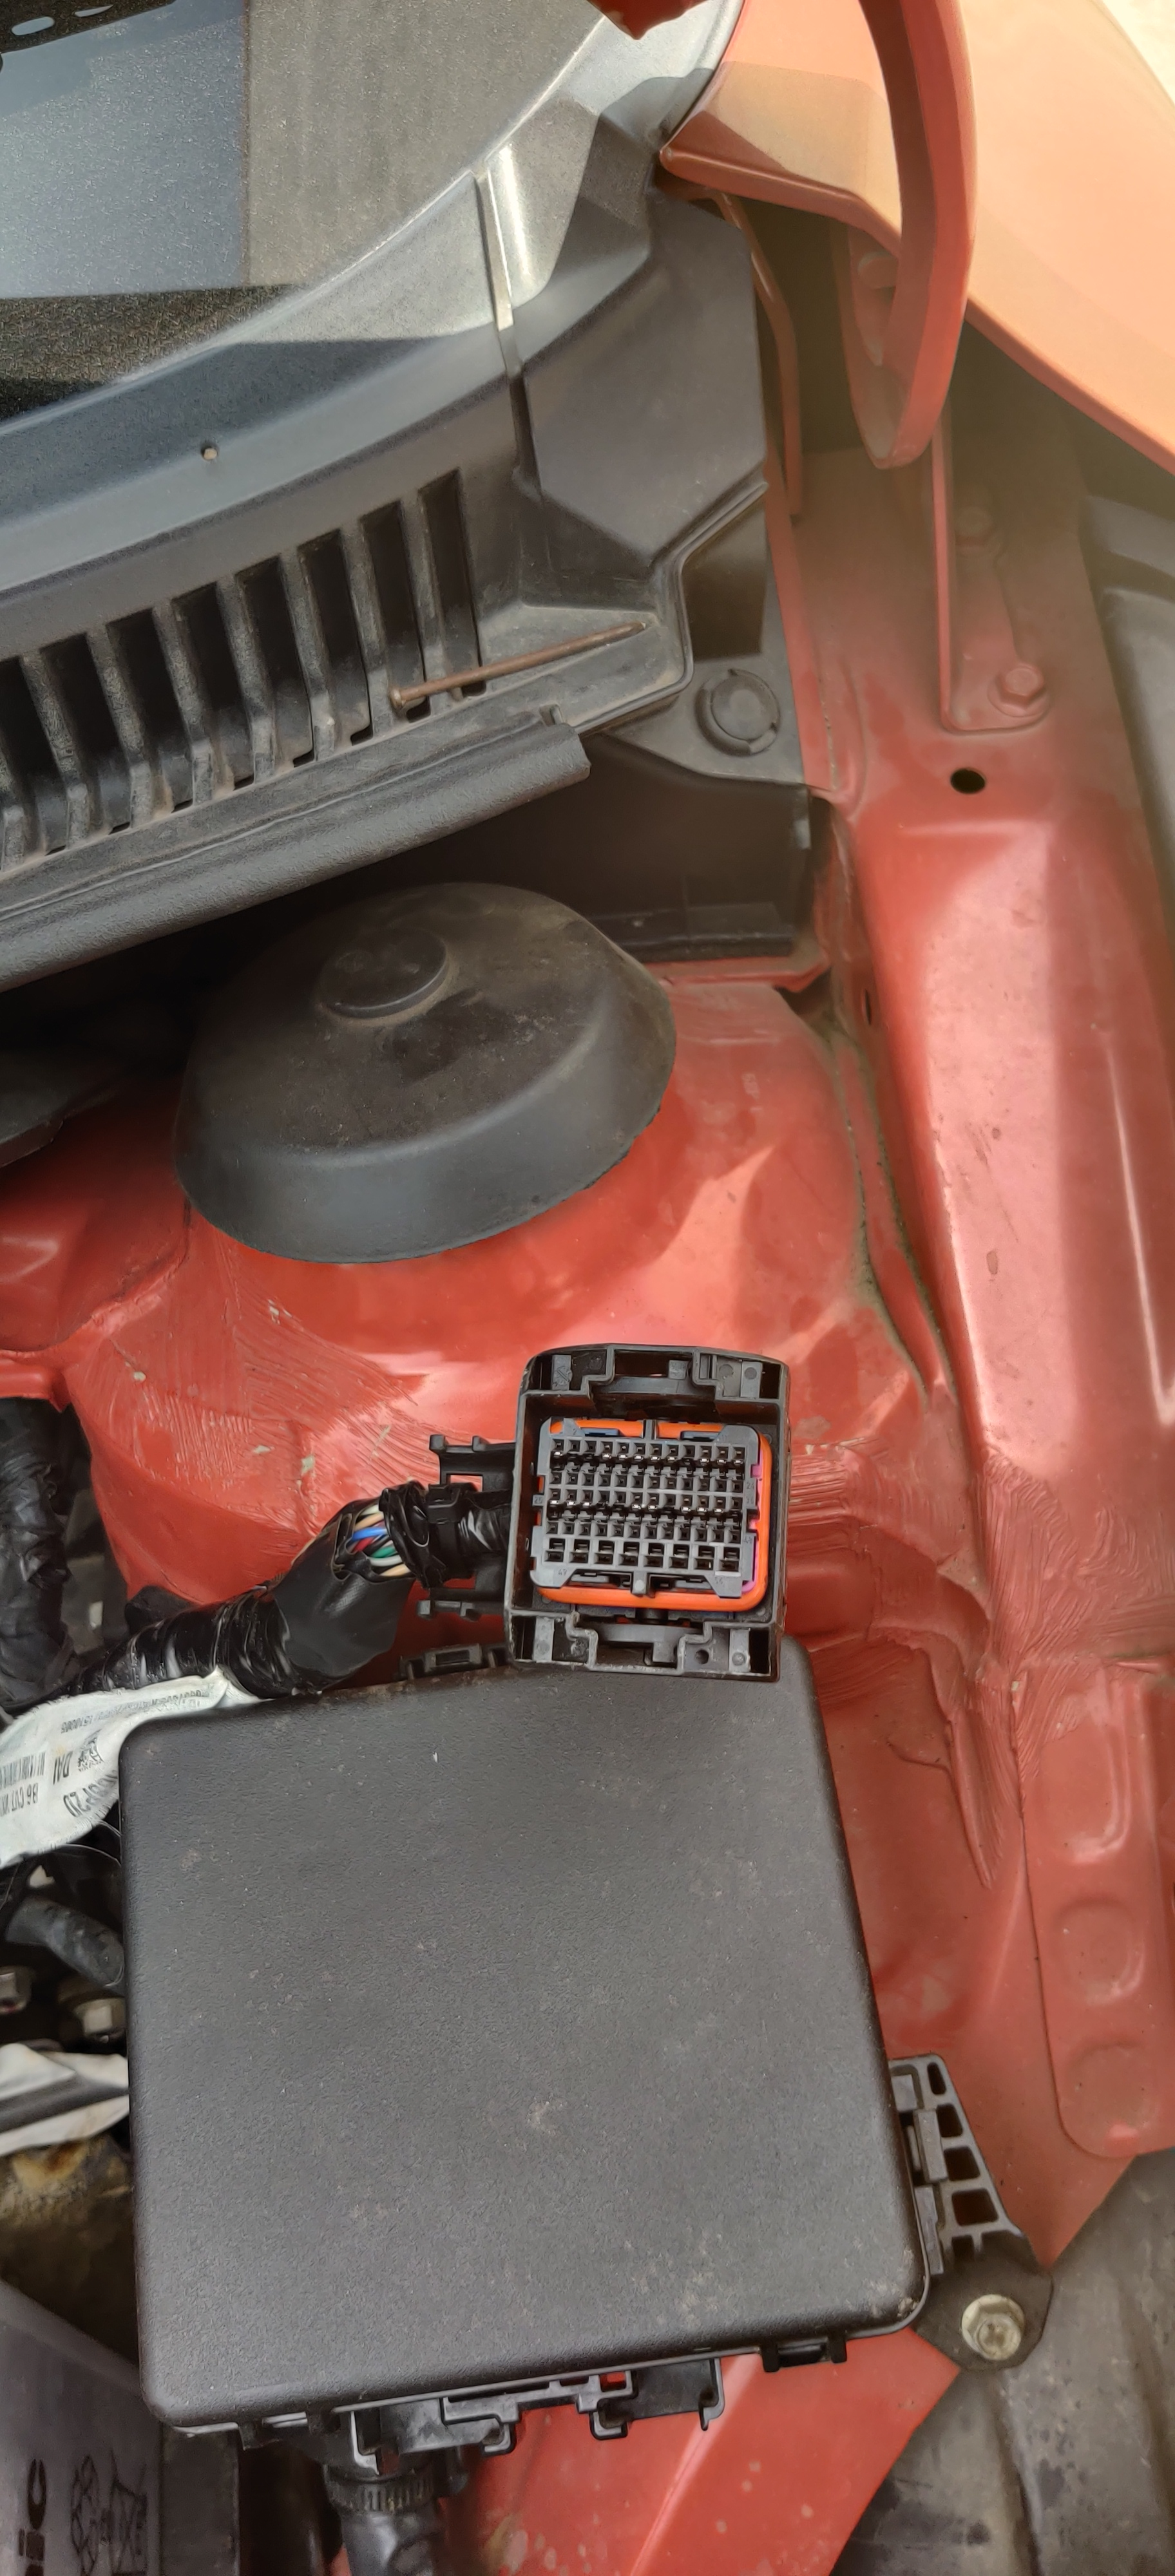connector: (465, 1319, 843, 1722)
